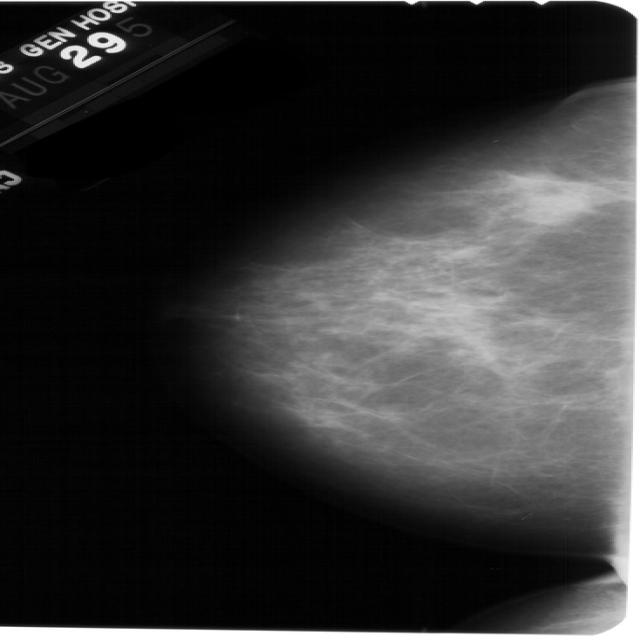tumour: (509, 174, 591, 225)
